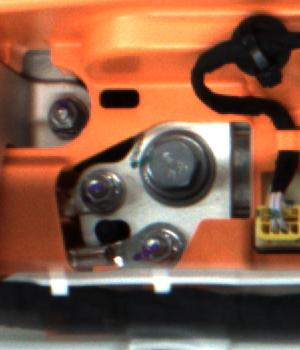nut_b: (138, 125, 220, 208)
